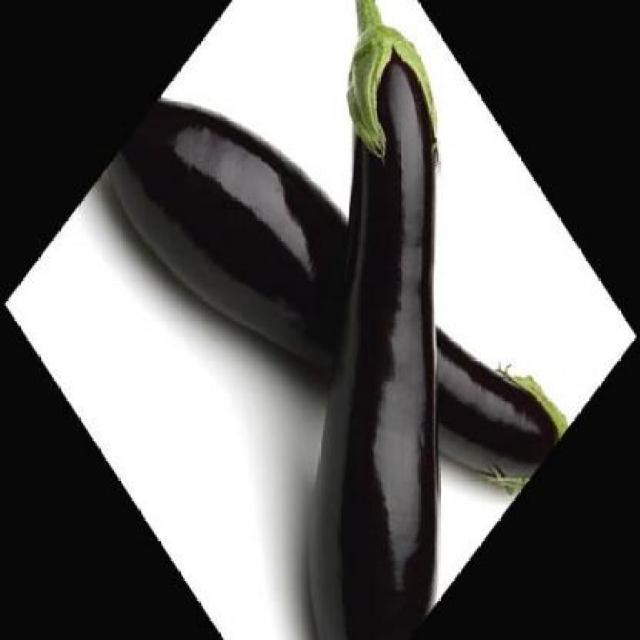eggplant: (81, 0, 623, 638), (97, 0, 576, 638)
